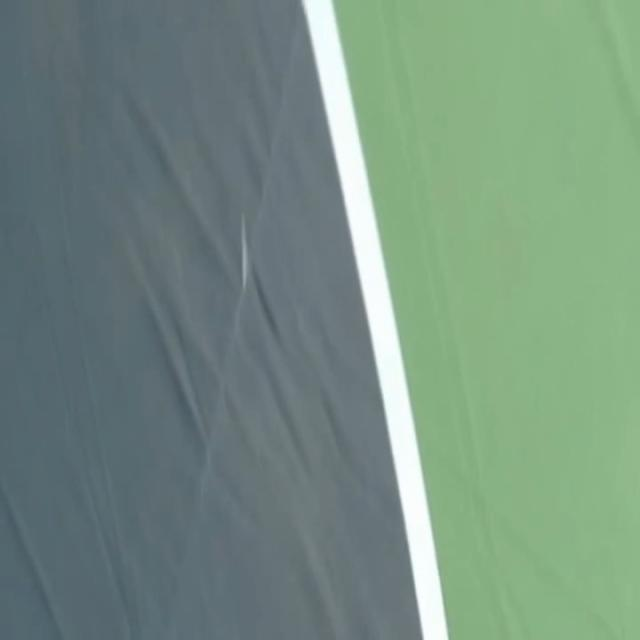right: (302, 0, 448, 639)
